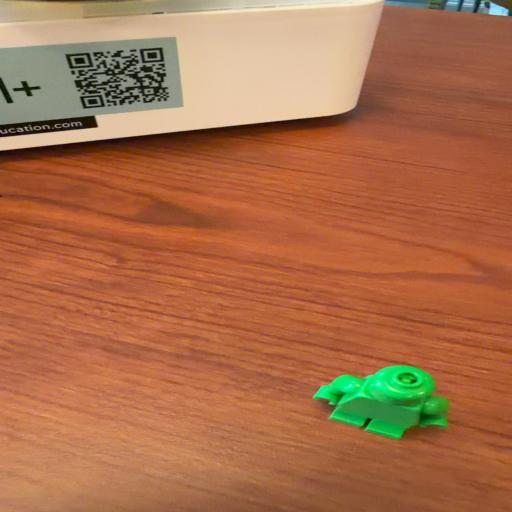UnoQ-minifig-detector: (313, 365, 450, 439)
